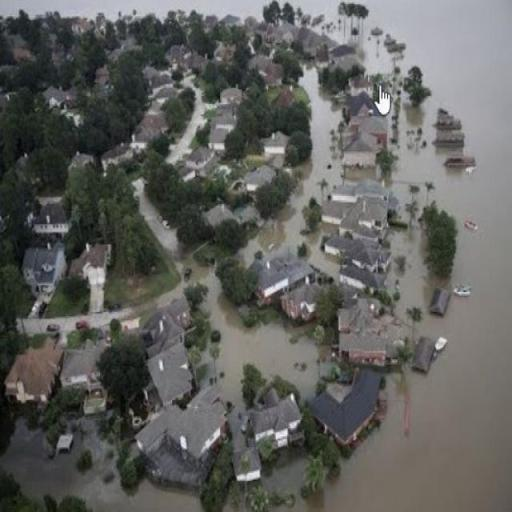flood: (177, 253, 382, 410), (0, 419, 203, 512), (260, 62, 343, 250), (387, 229, 455, 325), (0, 0, 268, 18), (134, 180, 179, 254), (166, 89, 209, 164), (326, 32, 393, 74), (261, 448, 305, 493), (305, 223, 339, 281), (285, 0, 342, 18), (346, 166, 378, 180), (222, 504, 234, 512)
house: (132, 391, 228, 491), (312, 364, 382, 443), (142, 307, 191, 402), (257, 259, 321, 320), (245, 391, 301, 455), (5, 344, 59, 409), (338, 308, 394, 363), (21, 248, 69, 300), (327, 236, 394, 271), (346, 86, 389, 122), (435, 108, 465, 158), (31, 202, 71, 236), (338, 264, 389, 290), (81, 241, 111, 282), (344, 132, 378, 168), (260, 130, 290, 162), (356, 175, 390, 200), (359, 203, 388, 231), (137, 114, 164, 140), (430, 286, 451, 317), (330, 45, 362, 64), (187, 147, 212, 170), (322, 201, 346, 223), (207, 129, 228, 152), (333, 184, 358, 201)
